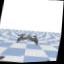drone: (17, 33, 40, 47)
